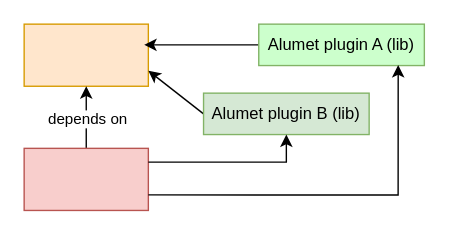
This 449x235 diagram has some shape labels left out. The shapes that lost their labels are listed below. From the top down, each one's box as (x1, y1, x2, y2) in pixels, then its label:
(23, 23, 148, 86): Alumet core (lib)
(23, 147, 148, 210): Alumet agent (app)
